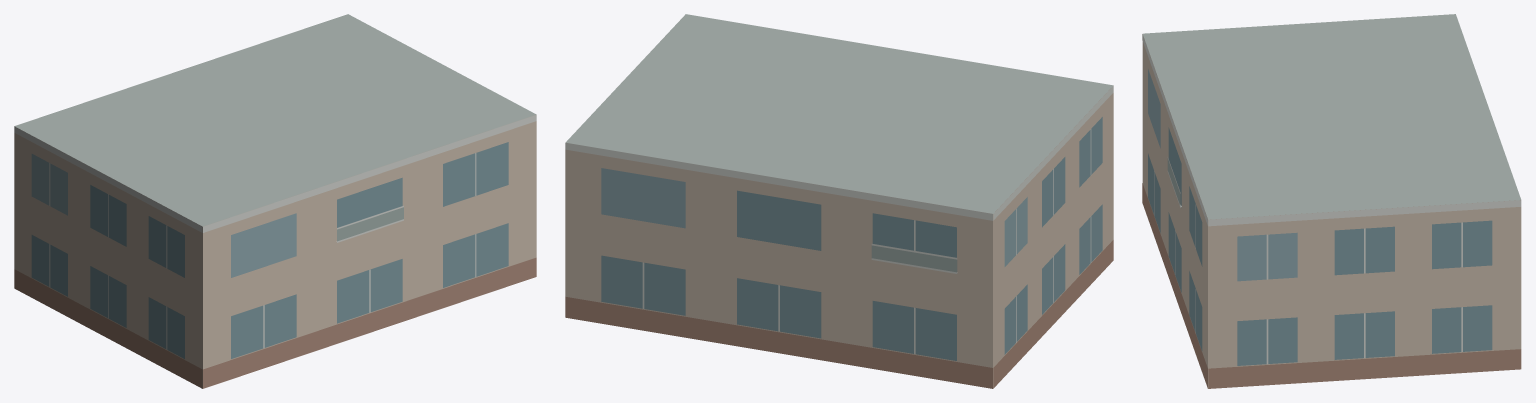
The model's file is survey-upis-32808532.glb.
The picture shows the model from 3 angles, left to right: view 1: azimuth 30°, elevation 25°; view 2: azimuth 150°, elevation 25°; view 3: azimuth 270°, elevation 25°; orthographic projection. The views are drawn at different scales.
Parts seen in each view (by area): view 1: survey-upis-32808532.tmp; view 2: survey-upis-32808532.tmp; view 3: survey-upis-32808532.tmp.
Part boxes in pixels (x1,y1,x2,y2): survey-upis-32808532.tmp: (14, 14, 536, 388); survey-upis-32808532.tmp: (565, 14, 1113, 388); survey-upis-32808532.tmp: (1142, 14, 1521, 388).
Bounding box in the file's own units: 15.89 × 6.1 × 12.38.
